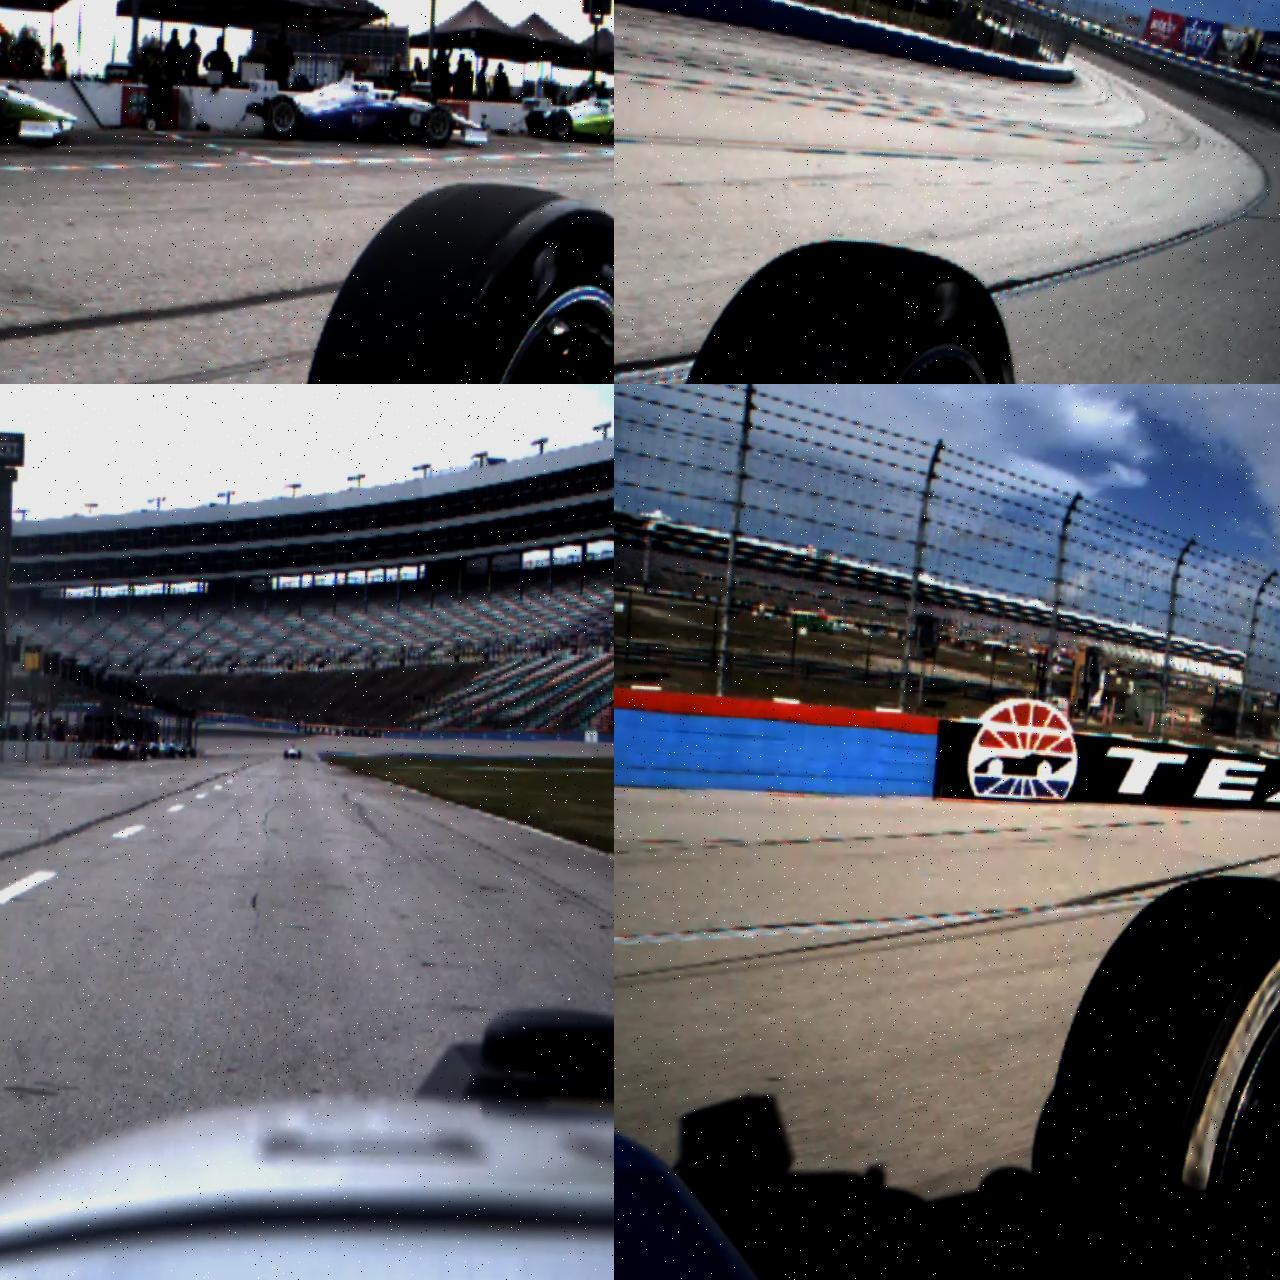AV: (261, 53, 493, 152), (0, 15, 82, 158), (524, 81, 614, 148), (284, 743, 301, 760)
Wheel: (1039, 866, 1280, 1280), (282, 172, 614, 384), (644, 229, 1027, 384), (261, 91, 300, 141), (422, 103, 454, 149), (549, 108, 573, 142), (524, 109, 545, 138), (121, 744, 130, 760), (96, 745, 104, 758), (139, 745, 147, 760), (150, 745, 157, 760), (169, 747, 176, 757), (179, 748, 186, 757), (190, 749, 196, 758), (284, 749, 287, 758), (298, 750, 301, 758)
